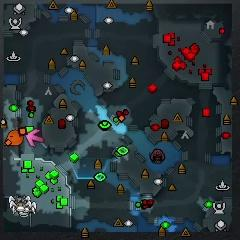p5: (6, 130, 24, 144)
x1: (27, 129, 44, 147)
